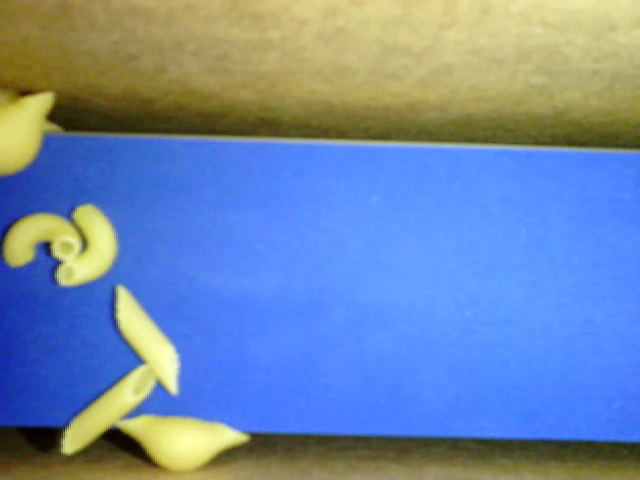elbow: (3, 204, 89, 272), (57, 200, 116, 288)
penne: (53, 360, 161, 459), (110, 278, 181, 395)
shell: (110, 410, 263, 472), (1, 82, 63, 180)
